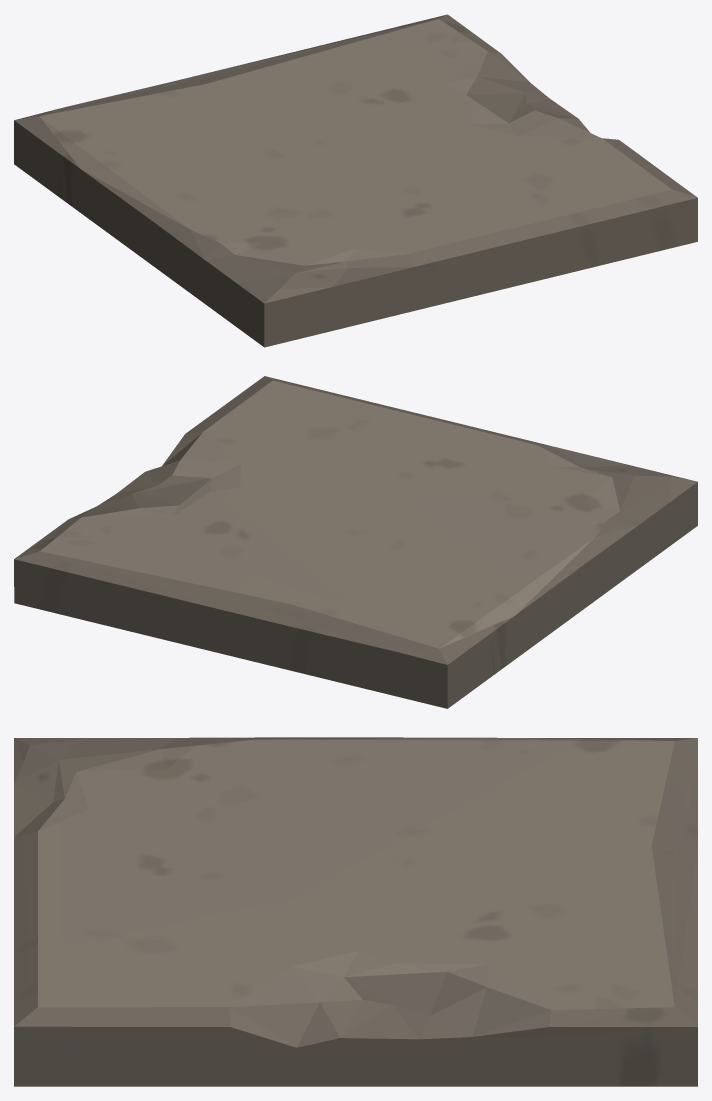
File: floor_half.glb
The picture shows the model from 3 angles, top to bottom: view 1: azimuth 30°, elevation 25°; view 2: azimuth 150°, elevation 25°; view 3: azimuth 270°, elevation 25°; orthographic projection. The views are drawn at different scales.
Parts seen in each view (by area): view 1: SM_Env_Dwarf_Floor_Half_01; view 2: SM_Env_Dwarf_Floor_Half_01; view 3: SM_Env_Dwarf_Floor_Half_01.
Boxes of the visible parts, bbox=[...] form: SM_Env_Dwarf_Floor_Half_01: bbox=[14, 14, 697, 347]; SM_Env_Dwarf_Floor_Half_01: bbox=[14, 376, 697, 708]; SM_Env_Dwarf_Floor_Half_01: bbox=[14, 737, 697, 1086].
Bounding box in the file's own units: 2.5 × 0.2794 × 2.5.
1 material, 1 textured.
